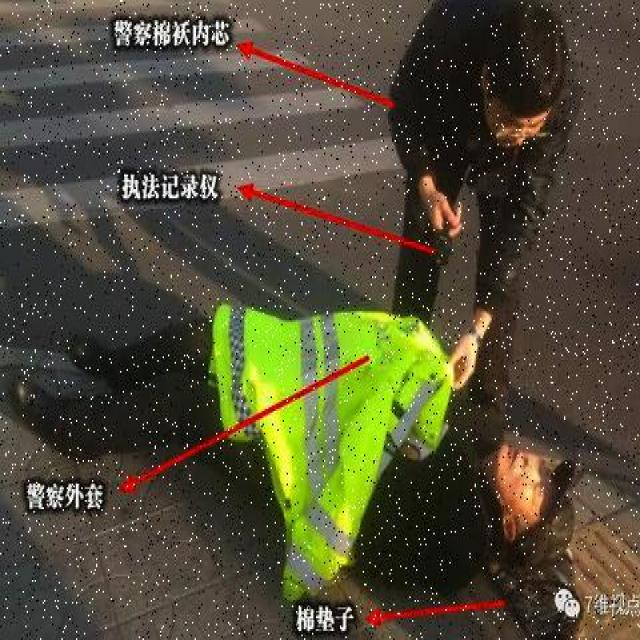fall: (36, 327, 545, 591)
